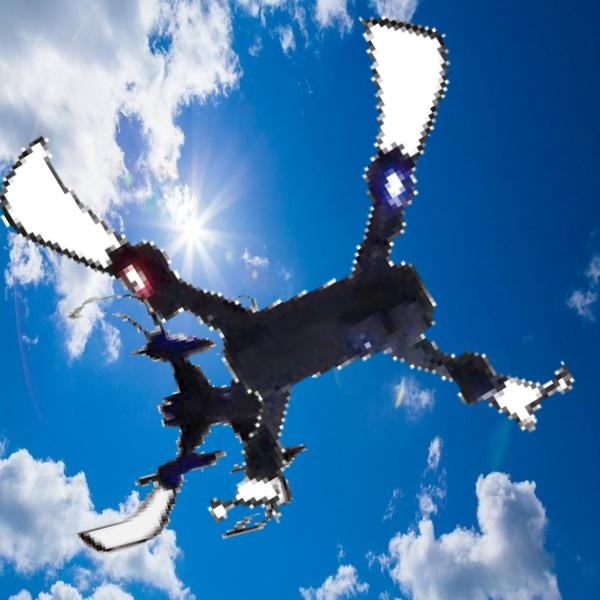drone: (36, 13, 561, 538), (33, 265, 328, 560)
